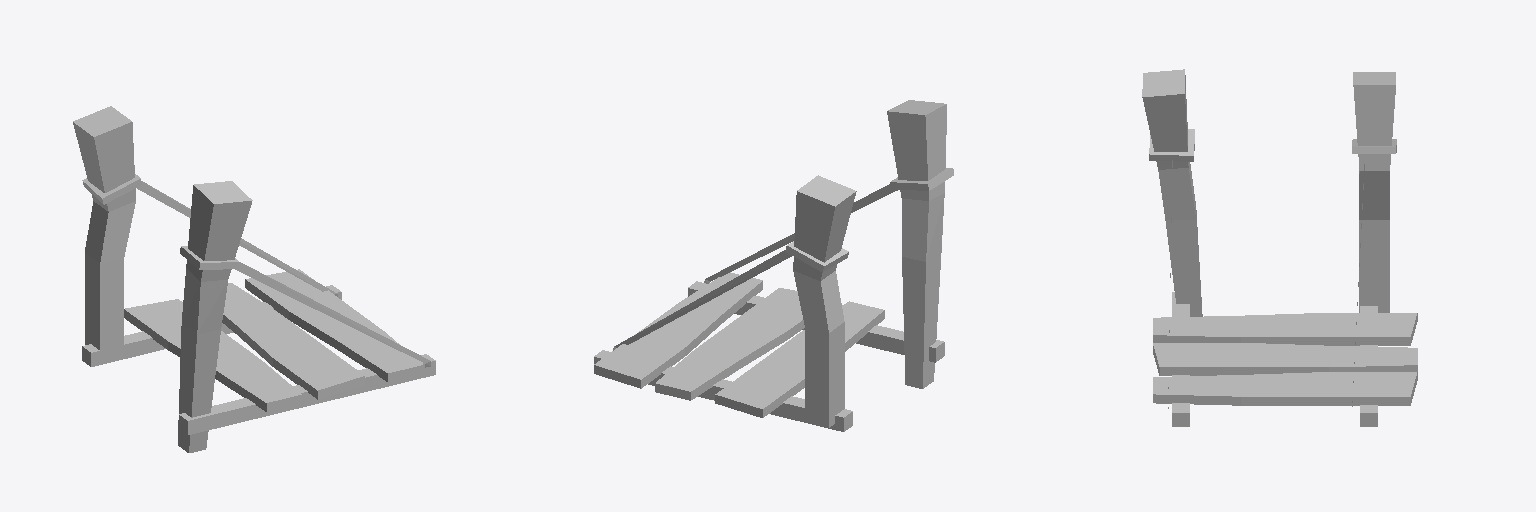
Rendered from TileWoodBridge.obj.
The picture shows the model from 3 angles: view 1: azimuth 30°, elevation 25°; view 2: azimuth 150°, elevation 25°; view 3: azimuth 270°, elevation 25°; orthographic projection.
Size of the model in its own units: 2.59 by 2.62 by 2.46.